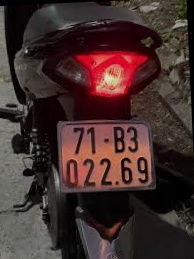Bien-so: (61, 118, 156, 193)
